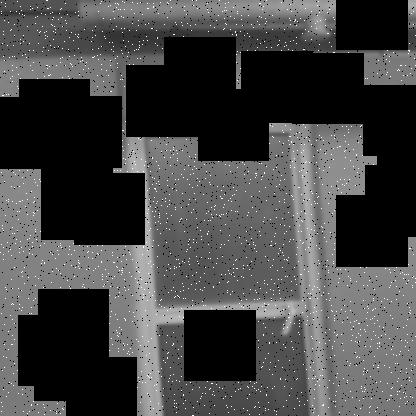Porte: (121, 112, 332, 416)
